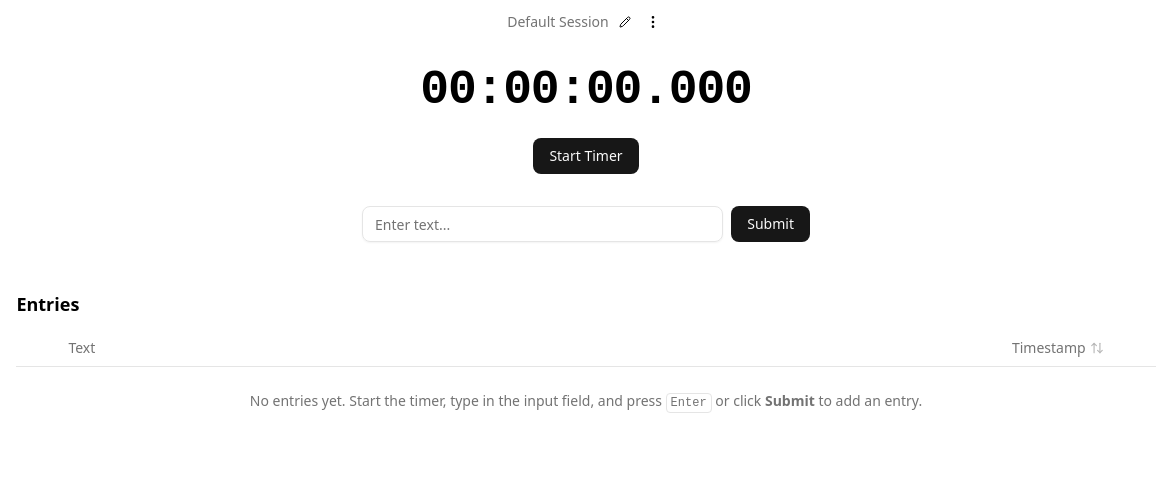
Test: Index › submits multiple entries and displays all of them
The image size is (1173, 485).
Click the button with test id "timer-start-button": (586,156) [533, 138, 639, 174]
Wait 10 ms
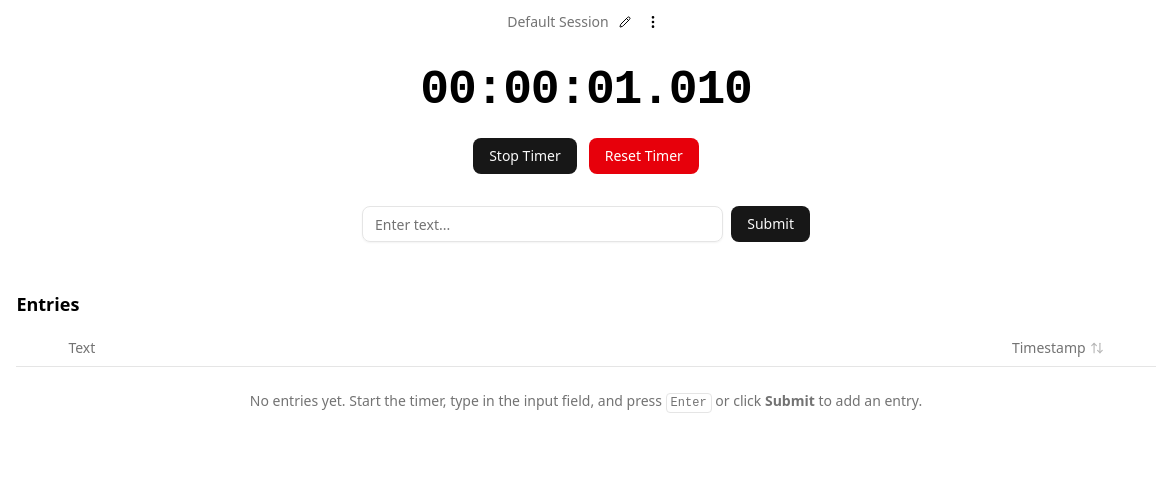
In the field with test id "timer-input": (543,224) [362, 206, 723, 242], type "first"
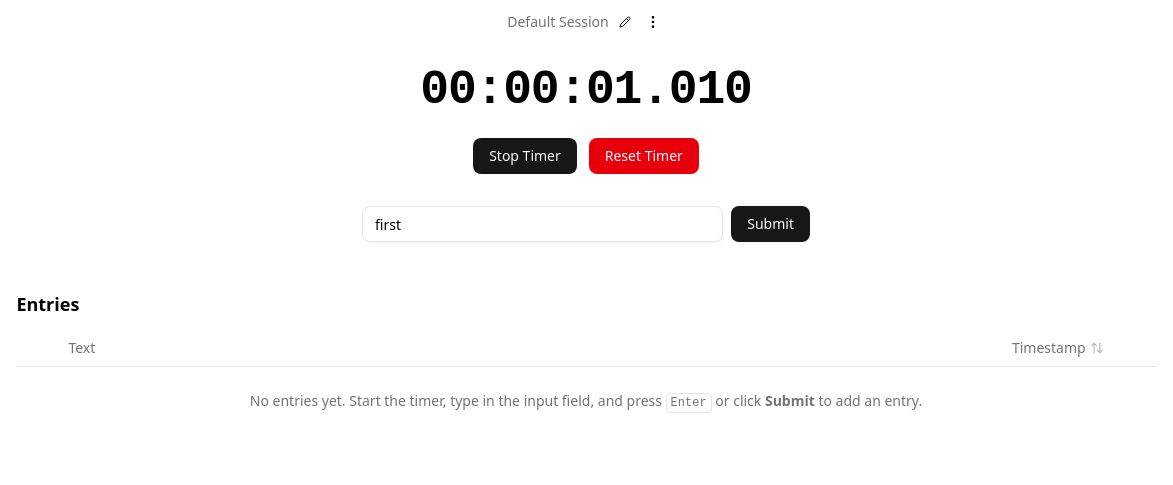
Click the button with test id "timer-submit-button": (771,224) [731, 206, 810, 242]
Wait 10 ms
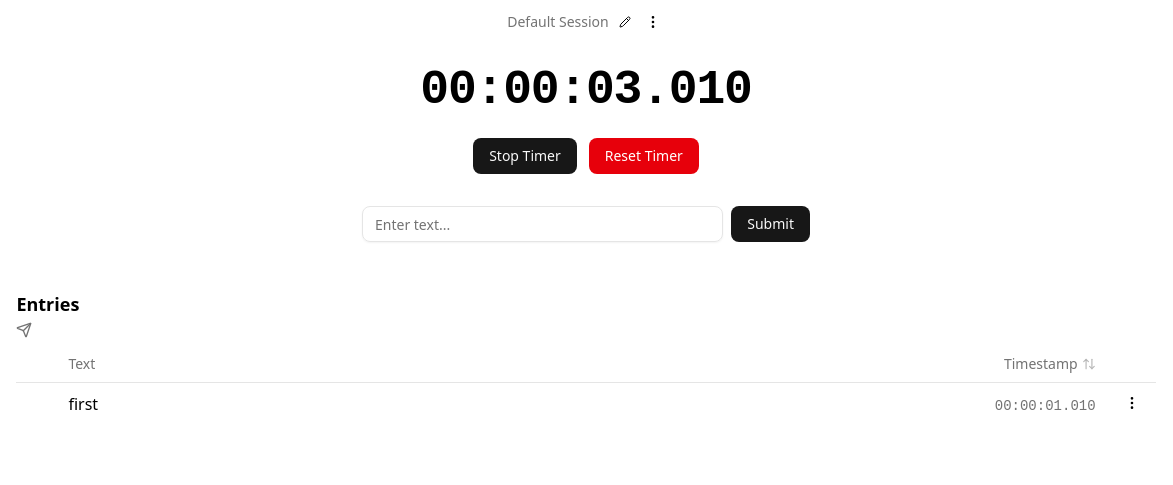
In the field with test id "timer-input": (543,224) [362, 206, 723, 242], type "second"
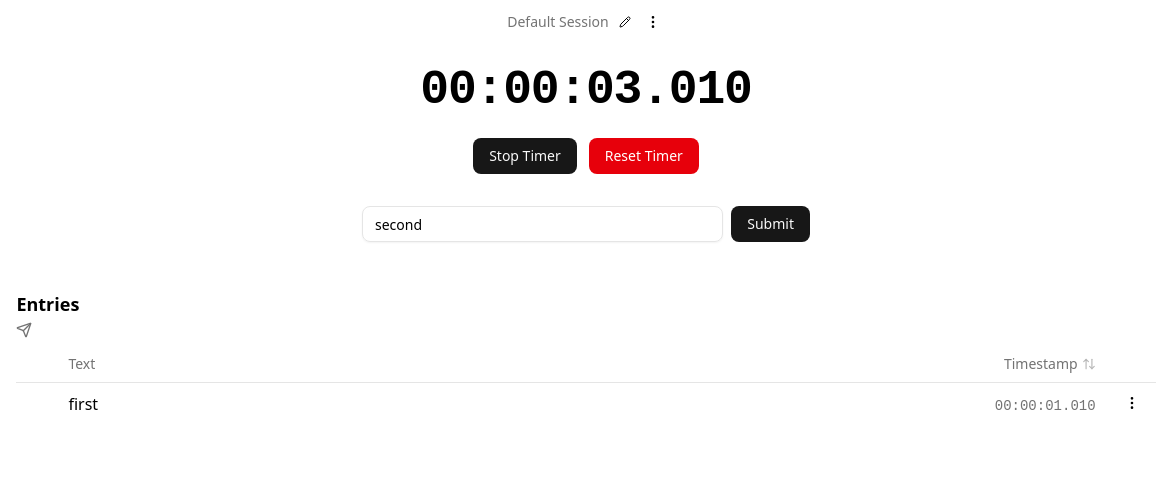
Click the button with test id "timer-submit-button": (771,224) [731, 206, 810, 242]
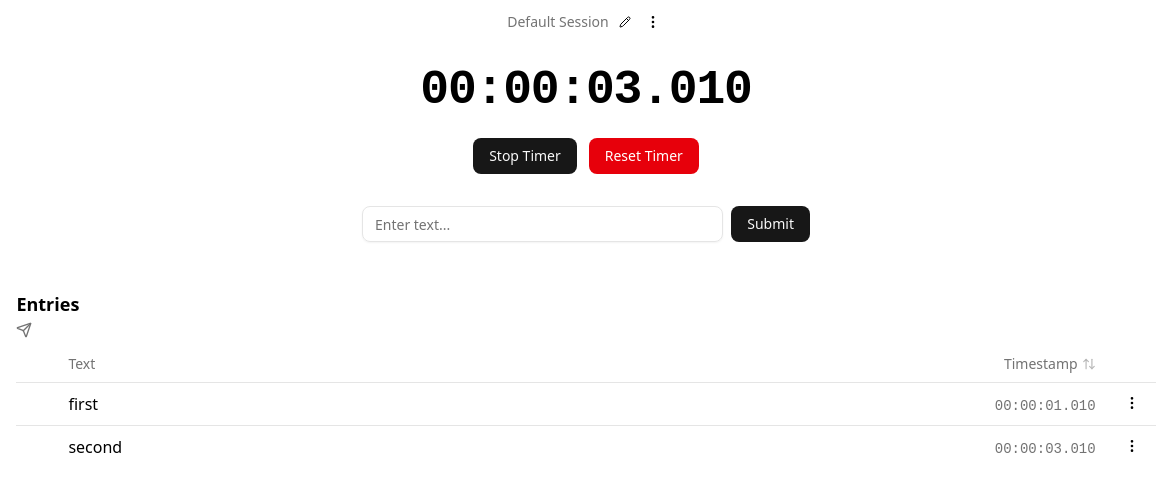
Check: the row with test id "timer-entry" shows "first", box [68, 393, 98, 415]
Check: the number of rows with test id "timer-entry" is 2, box [16, 382, 1156, 426]; [16, 426, 1156, 468]
Check: the row with test id "timer-entry" shows "second", box [68, 436, 122, 458]
